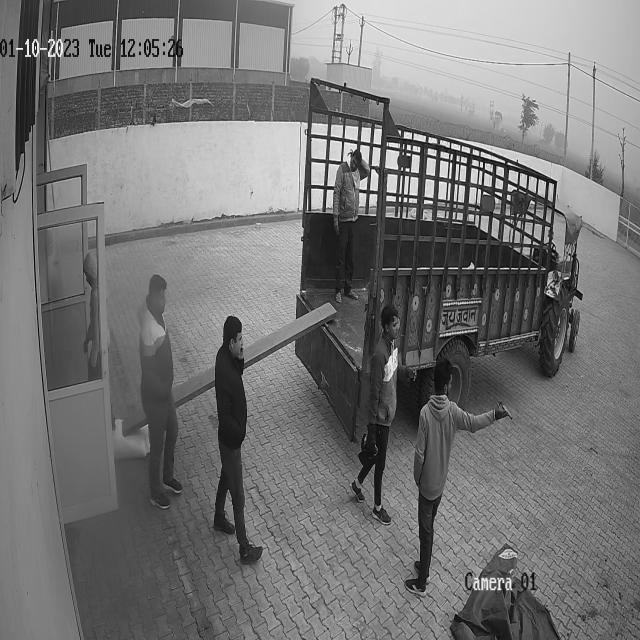sack: (112, 416, 150, 460)
